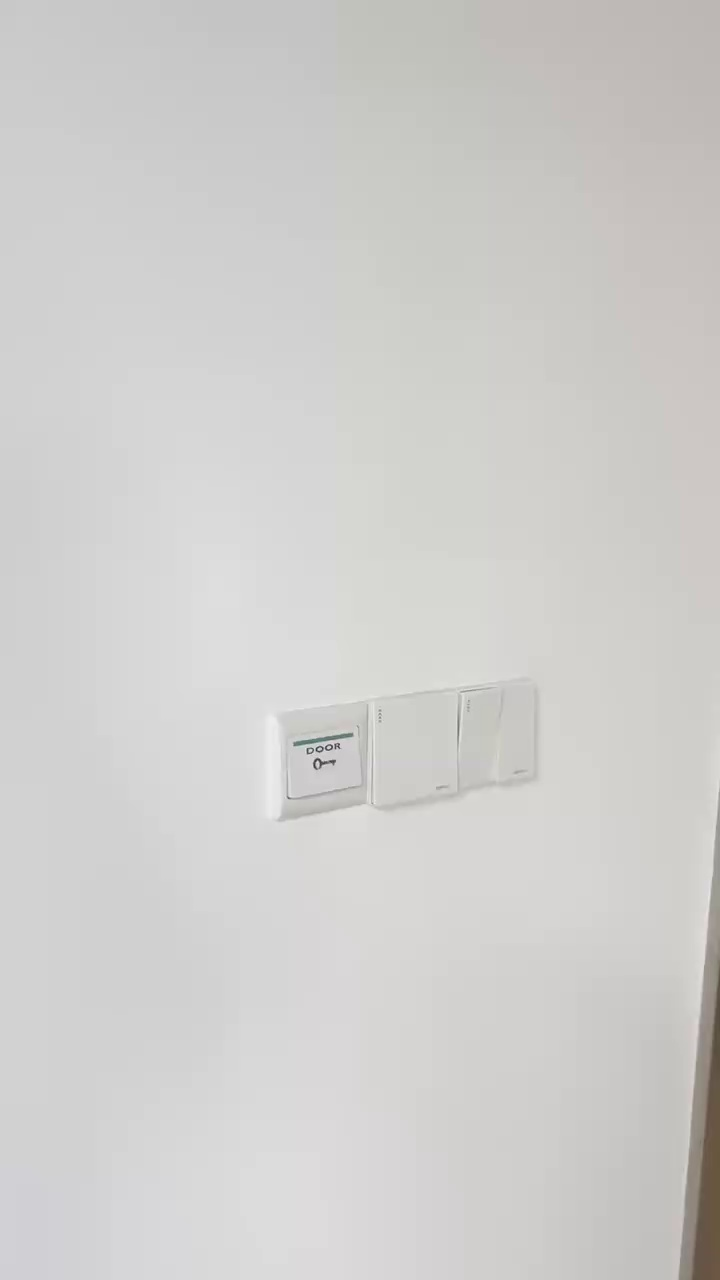button: (370, 695, 460, 809), (455, 683, 542, 793)
